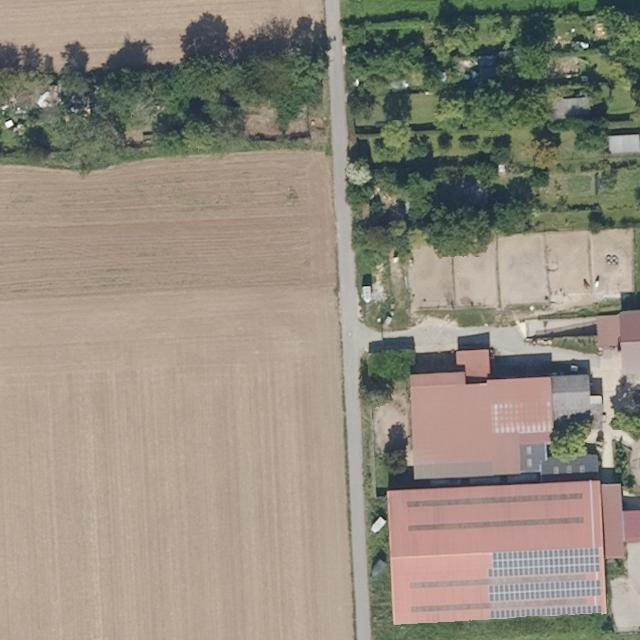PV: (484, 544, 607, 623)
